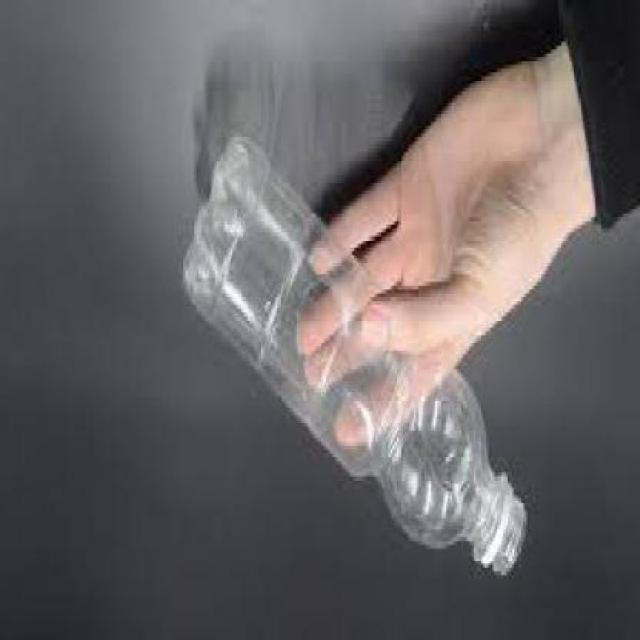PLASTIC: (188, 141, 529, 582)
